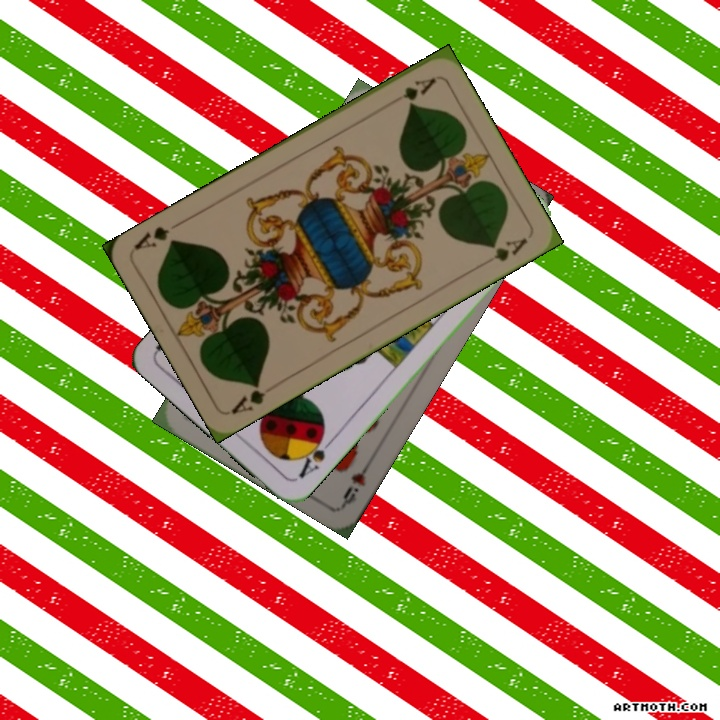GA: (384, 73, 439, 107), (227, 377, 268, 417)
H9: (338, 454, 377, 508)
SA: (294, 427, 337, 481)
